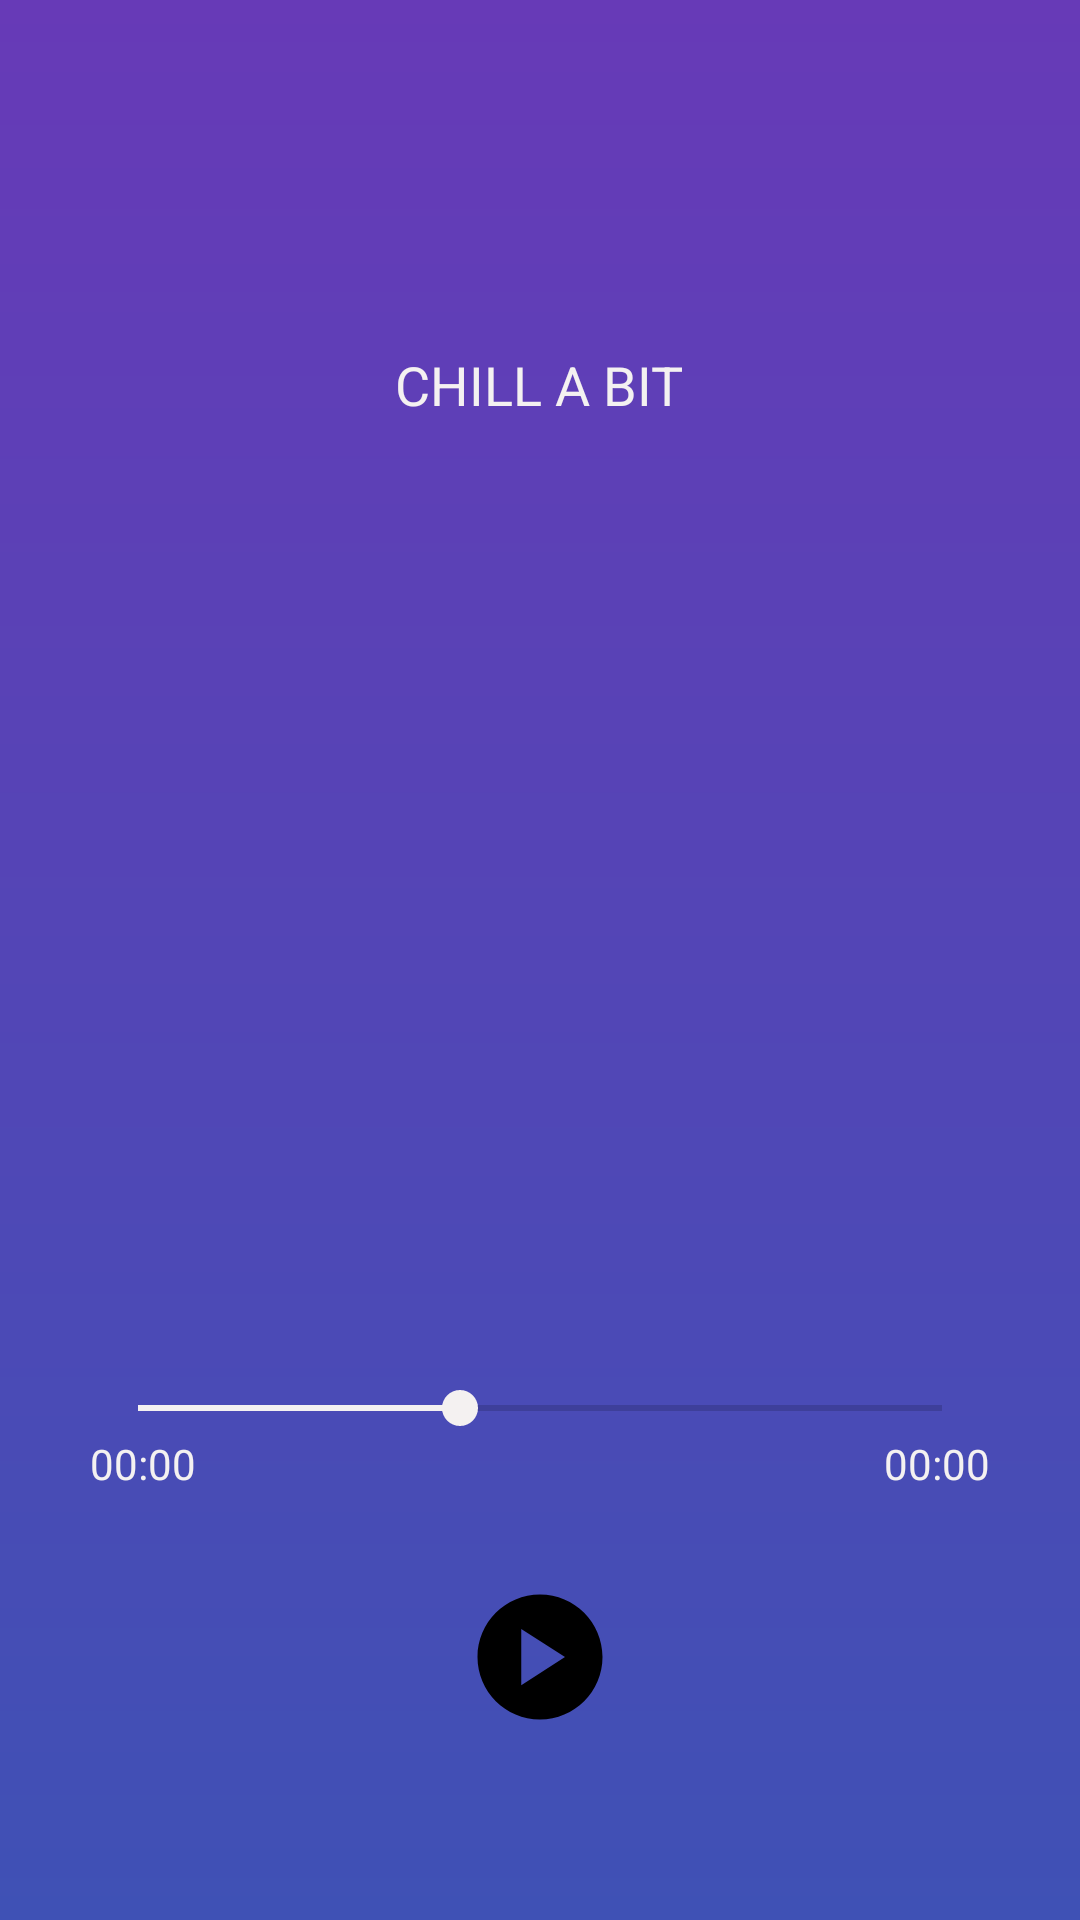

Icons on this 1080px x 1920px Android screen, each with its box as (left=x1, top=y1, right=x2, bottom=y2):
player: (left=477, top=1594, right=603, bottom=1720)
